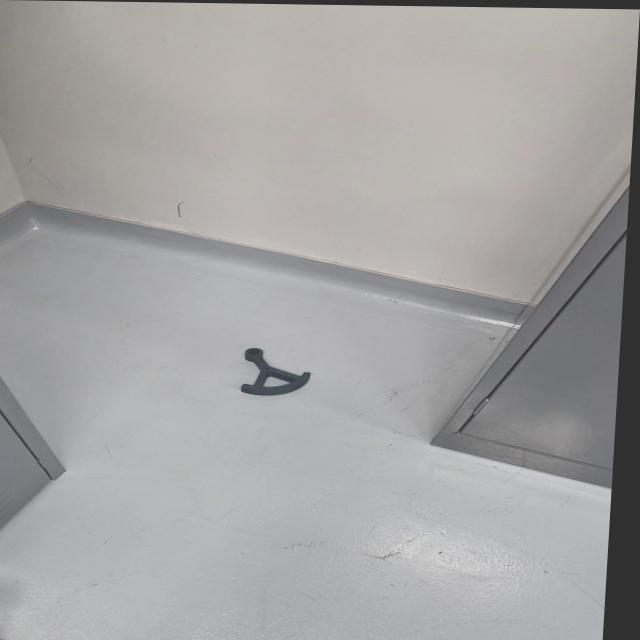haptic: (240, 347, 313, 396)
